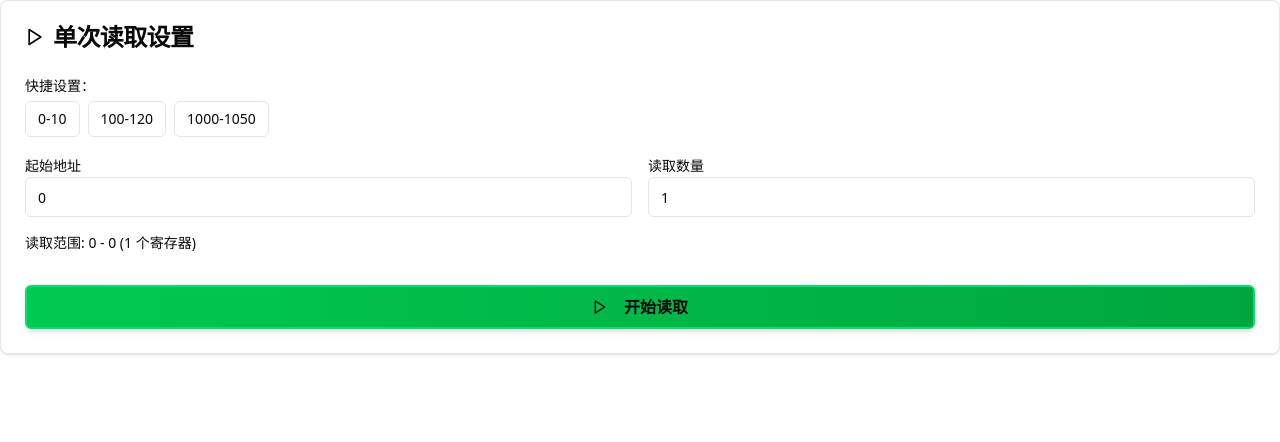
SingleRead › 应该验证地址范围超出限制
Replace the text in the number field labelled "起始地址" with "65530" at (328, 197), box left=25, top=177, right=632, bottom=217
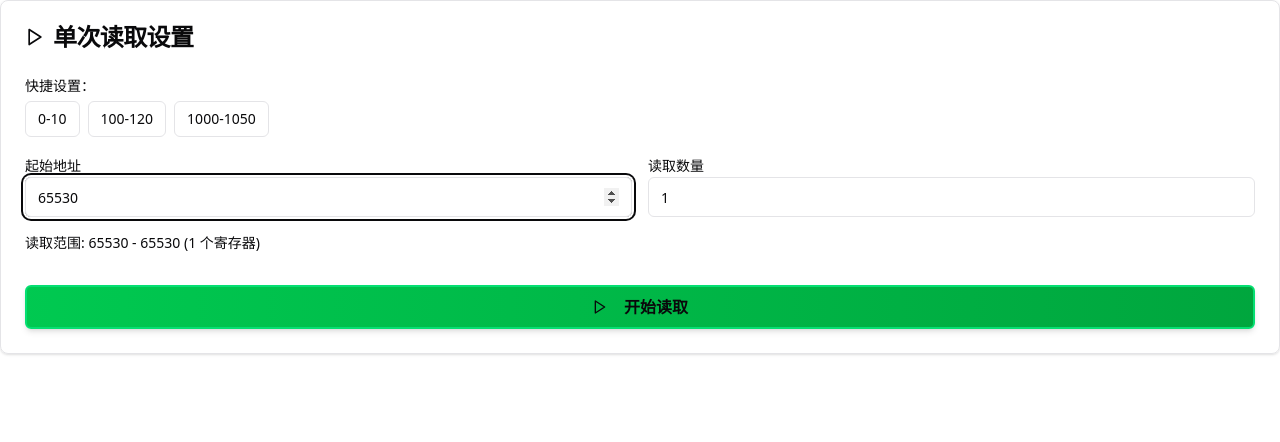
Replace the text in the number field labelled "读取数量" with "10" at (952, 197), box left=648, top=177, right=1255, bottom=217
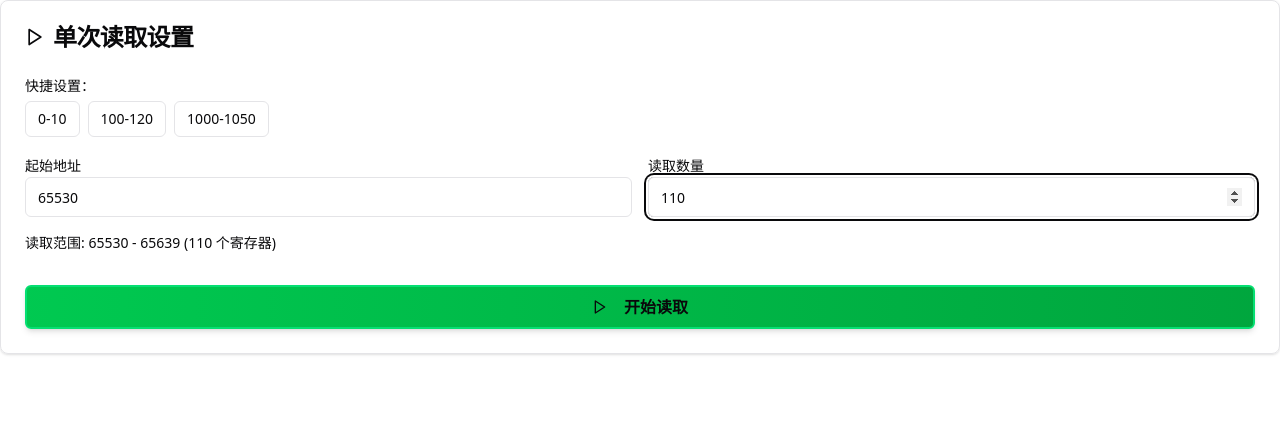
Click the button "开始读取" at (640, 307), box left=25, top=285, right=1255, bottom=329
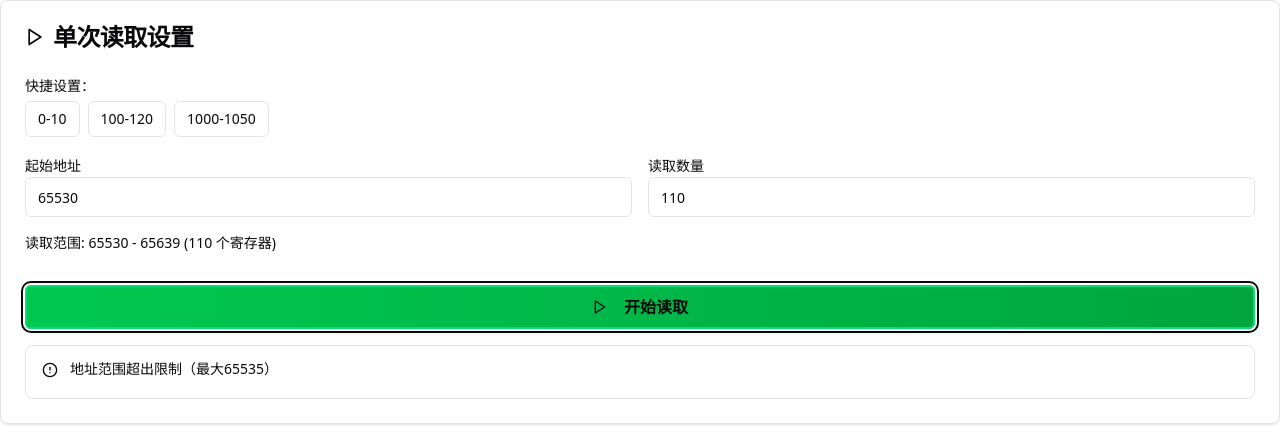
Expected: the text "地址范围超出限制（最大65535）" is shown, left=70, top=359, right=278, bottom=378
